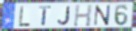6: (114, 4, 129, 27)
H: (73, 4, 93, 27)
J: (56, 6, 71, 26)
L: (18, 6, 31, 28)
N: (93, 5, 112, 27)
T: (39, 6, 53, 27)
